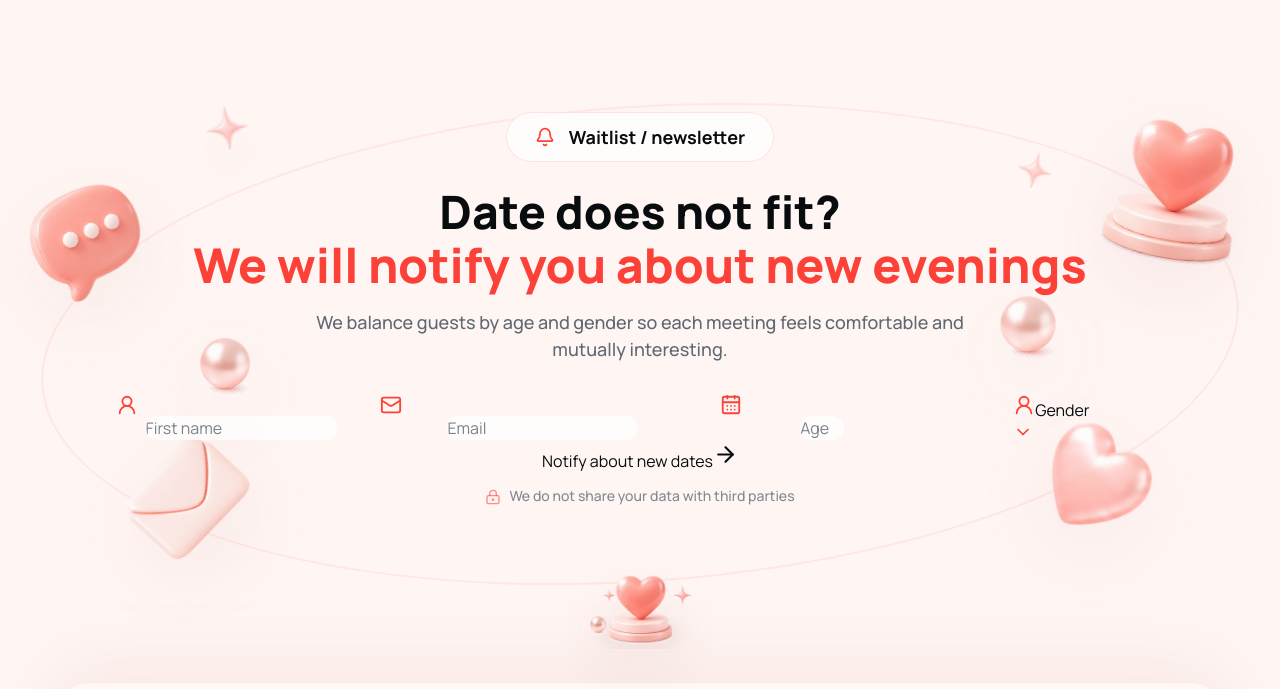
Test: HomeWaitlistFooter › submits the waitlist form and shows a success state
Type "Anna" into the field labelled "First name" at (241,428), box [146,416,337,440]
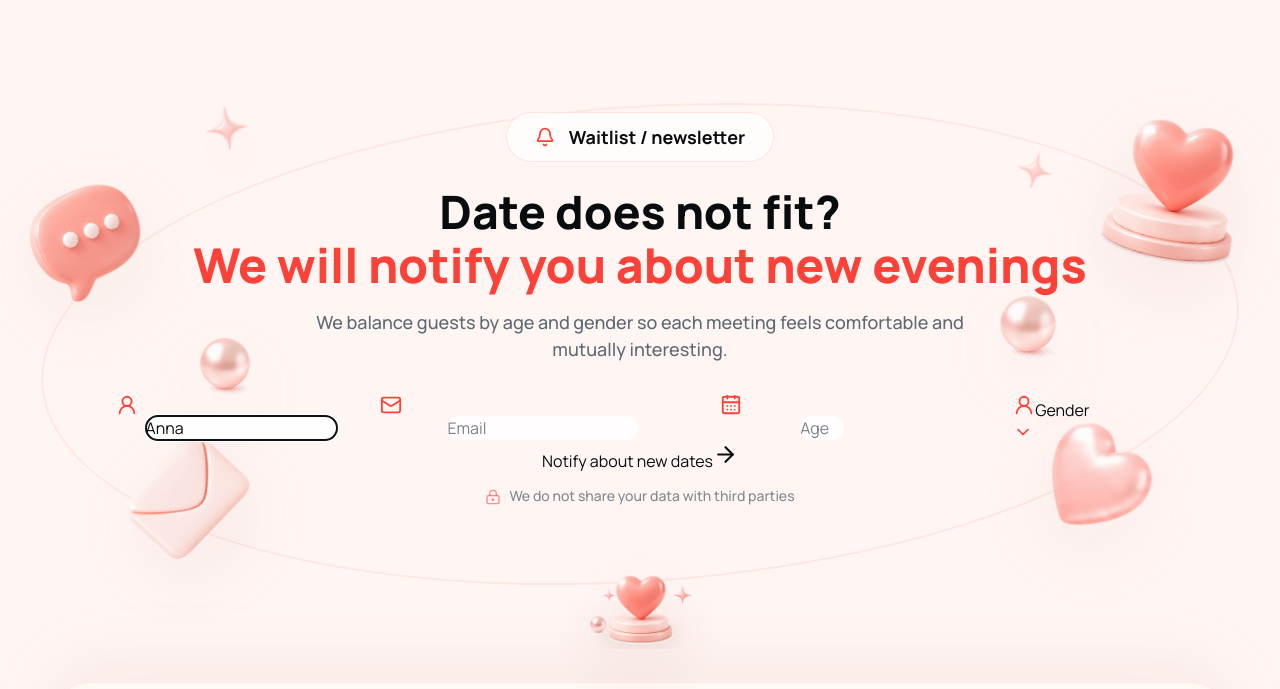
Type "Anna@Example.com" into the field labelled "Email" at (543,428), box [447,416,638,440]
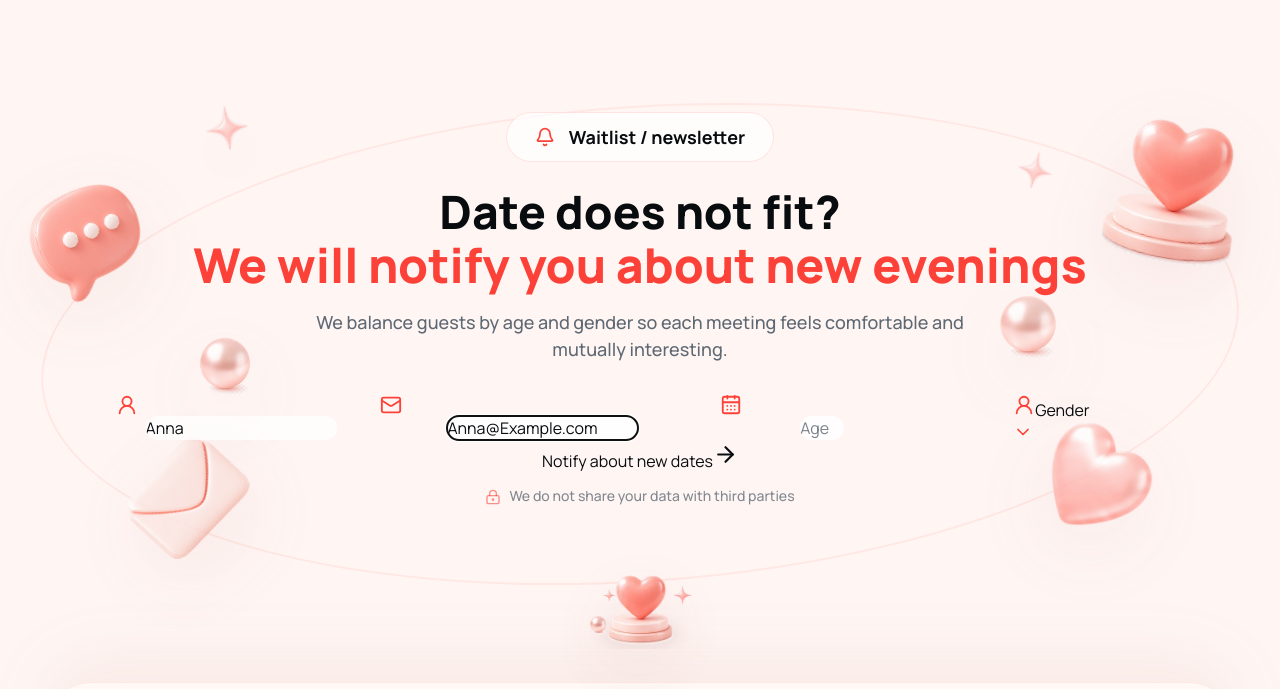
Type "29" into the number field labelled "Age" at (822,428), box [800,416,844,440]
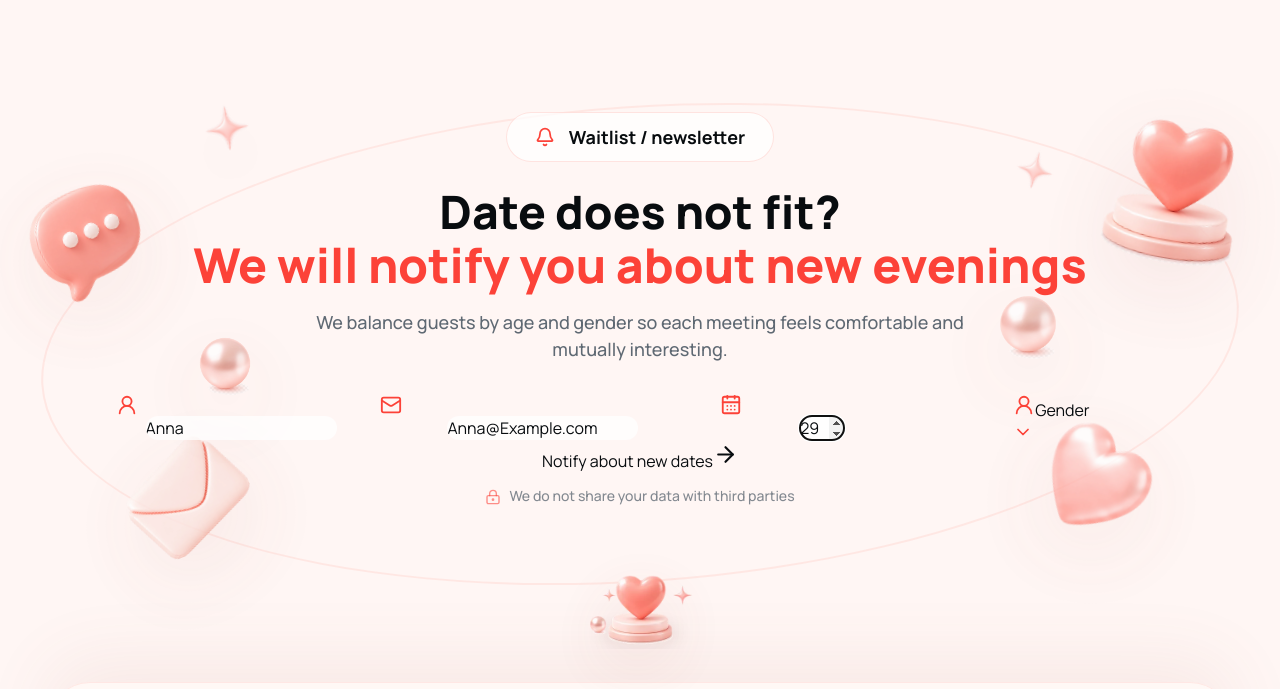
Click the button "Gender" at (1051,418), box [1013,394,1090,442]
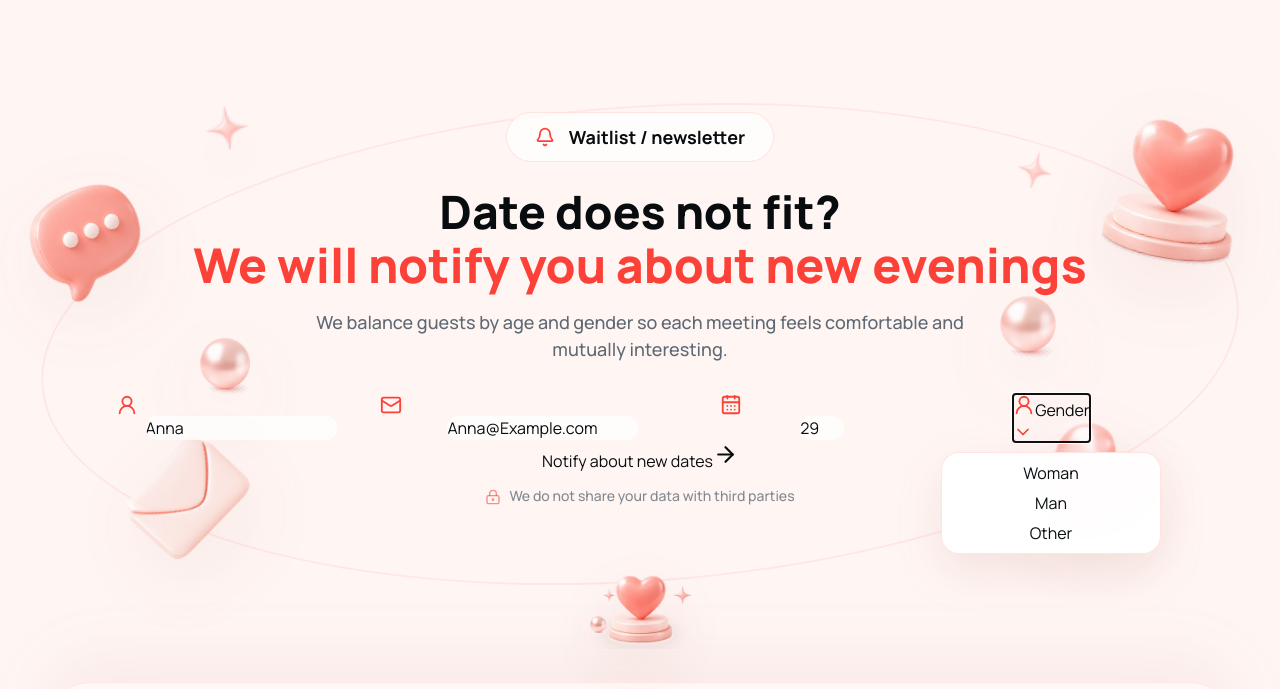
Click the option "Woman" at (1051,473), box [950,461,1152,485]
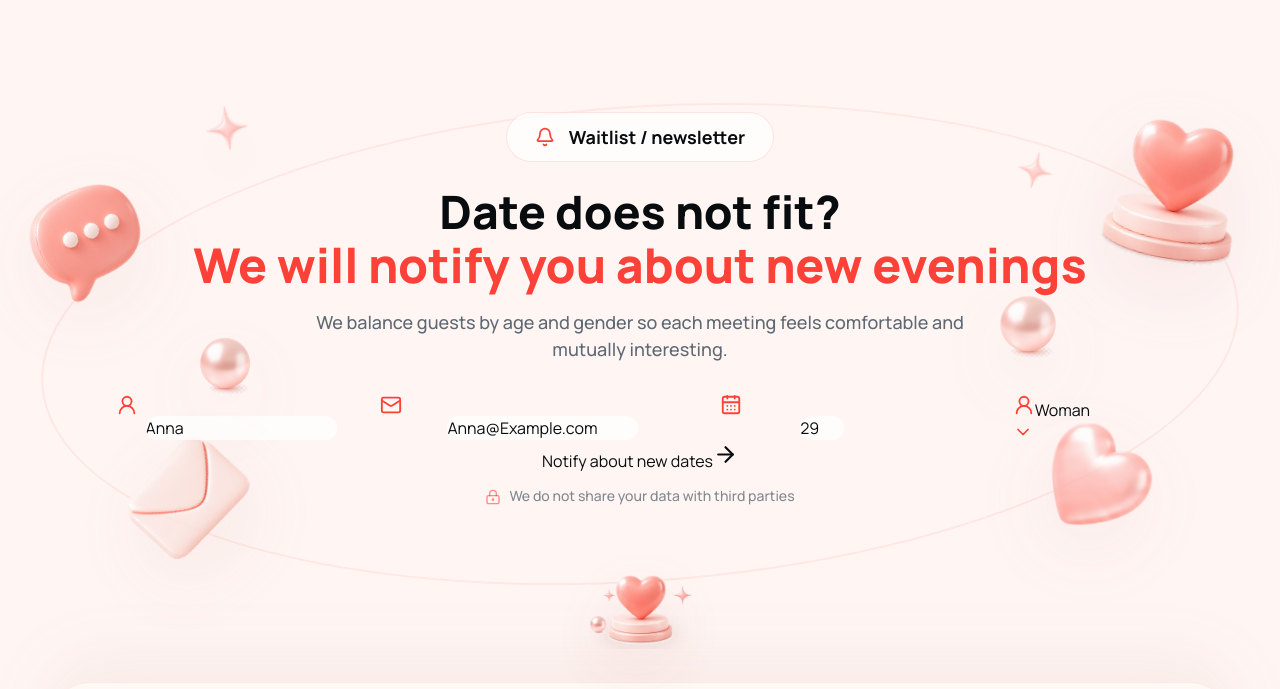
Click the button "Notify about new dates" at (640,458), box [542,442,738,473]
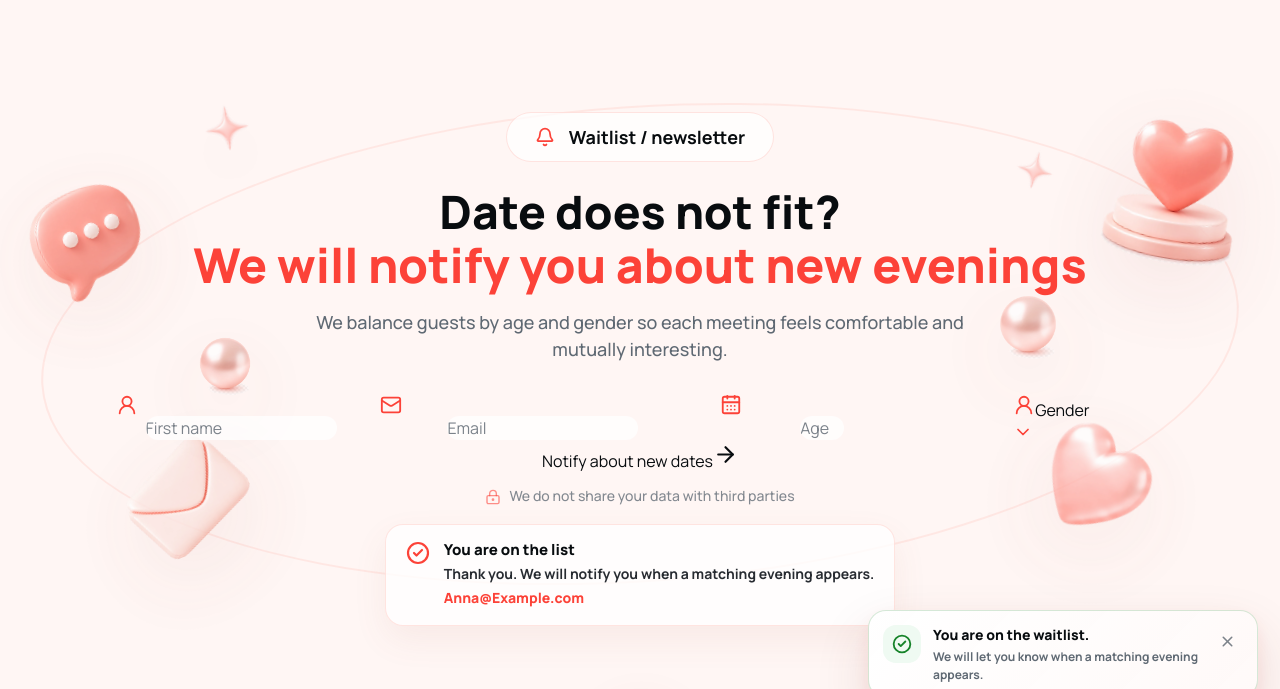
Expected: the text "You are on the list" is shown, [444,539,575,560]
Expected: the text "Thank you. We will notify you when a matching evening appears." is shown, [444,564,874,583]
